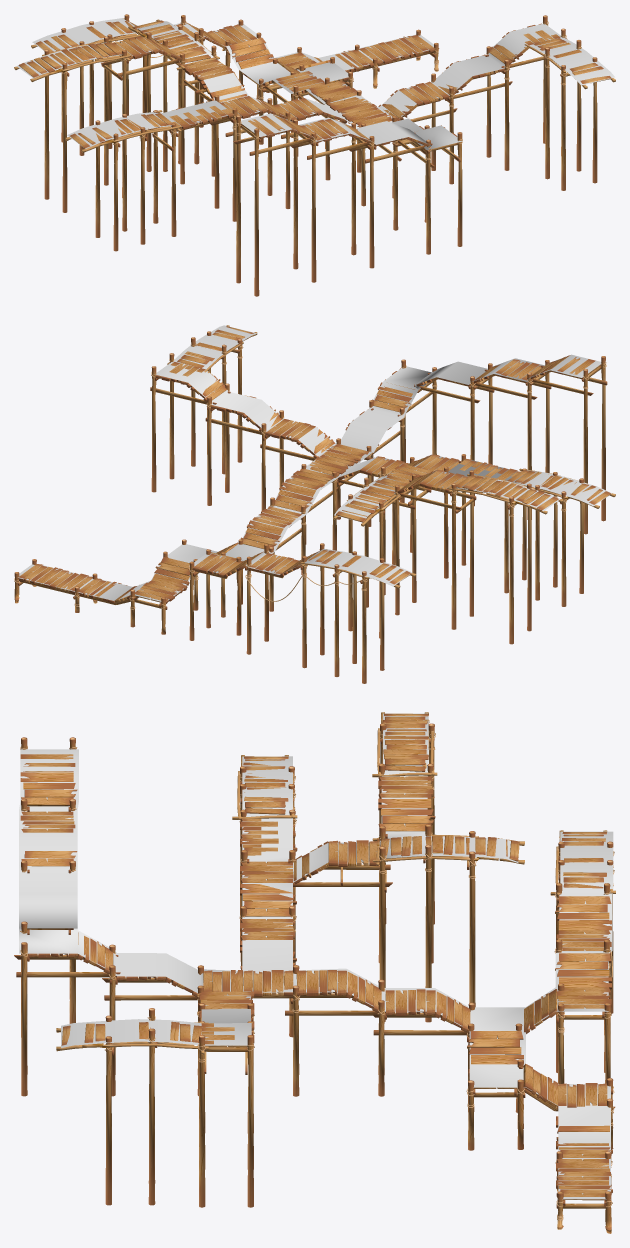
File: maze 1.fbx
The picture shows the model from 3 angles, top to bottom: view 1: azimuth 30°, elevation 25°; view 2: azimuth 150°, elevation 25°; view 3: azimuth 270°, elevation 25°; orthographic projection. The views are drawn at different scales.
Parts seen in each view (by area): view 1: Cube.030, Plane; view 2: Cube.030, Plane; view 3: Cube.030, Plane.
Part boxes in pixels (bbox=[...]): Cube.030: bbox=[14, 14, 615, 296]; Plane: bbox=[17, 18, 614, 149]; Cube.030: bbox=[14, 325, 615, 683]; Plane: bbox=[18, 325, 611, 601]; Cube.030: bbox=[14, 712, 615, 1233]; Plane: bbox=[19, 713, 613, 1199].
Bounding box in the file's own units: 4177 × 1535 × 3403.
